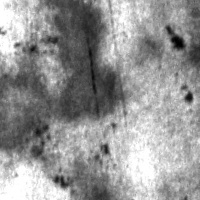inclusion: (160, 21, 191, 55), (28, 118, 54, 150), (49, 167, 72, 194), (178, 80, 197, 106), (197, 173, 199, 197)
patches: (42, 0, 119, 123), (0, 68, 56, 151), (68, 159, 126, 199)
